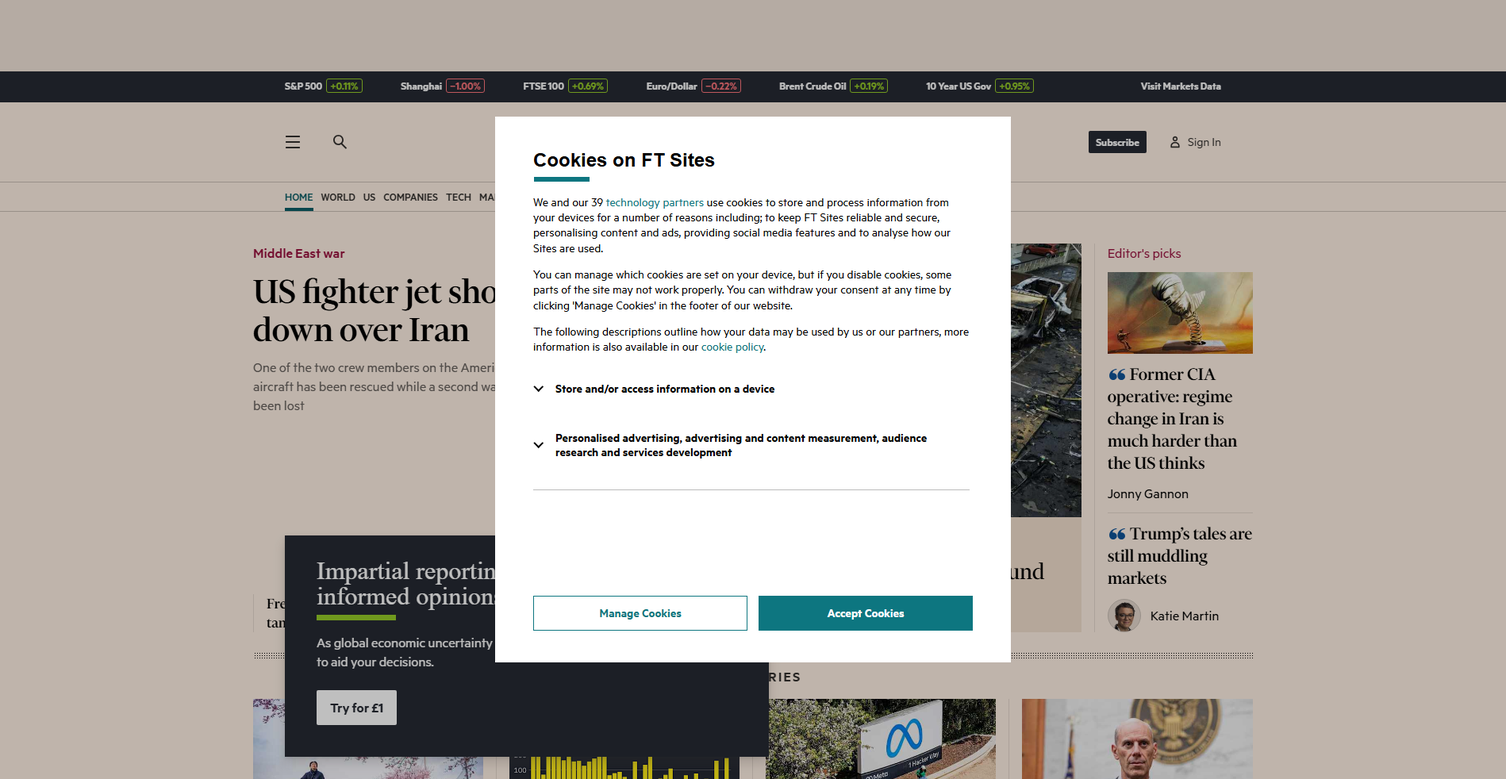general_button: (317, 690, 397, 725), (1089, 131, 1146, 153)
general_image: (595, 244, 1081, 517), (509, 699, 740, 779), (1022, 699, 1253, 779), (253, 699, 483, 779), (766, 699, 996, 779), (1107, 272, 1253, 354), (1107, 599, 1141, 633)
general_link: (595, 244, 1081, 517), (509, 699, 740, 779), (1022, 699, 1253, 779), (253, 699, 483, 779), (766, 699, 996, 779), (631, 568, 1045, 607), (253, 361, 555, 413), (1107, 369, 1237, 472), (253, 292, 511, 343), (555, 126, 951, 158), (1107, 272, 1253, 354), (1107, 529, 1252, 587), (267, 598, 521, 630), (1107, 599, 1219, 633), (806, 182, 888, 211), (654, 182, 735, 211), (383, 182, 438, 211), (743, 182, 798, 211), (1107, 484, 1189, 503), (779, 79, 888, 92), (927, 79, 1034, 92), (479, 182, 524, 211), (646, 79, 741, 92), (253, 247, 345, 260), (532, 182, 573, 211), (581, 182, 621, 211), (523, 79, 608, 92), (401, 79, 485, 92), (1141, 79, 1221, 92), (285, 79, 362, 92), (321, 182, 355, 211), (285, 182, 313, 211), (810, 534, 866, 547), (446, 182, 471, 211), (629, 182, 646, 211), (363, 182, 376, 211)
icon_close: (743, 541, 763, 562)
icon_menu: (277, 126, 309, 158)
icon_profile: (1162, 123, 1221, 161)
icon_search: (325, 126, 356, 158)
